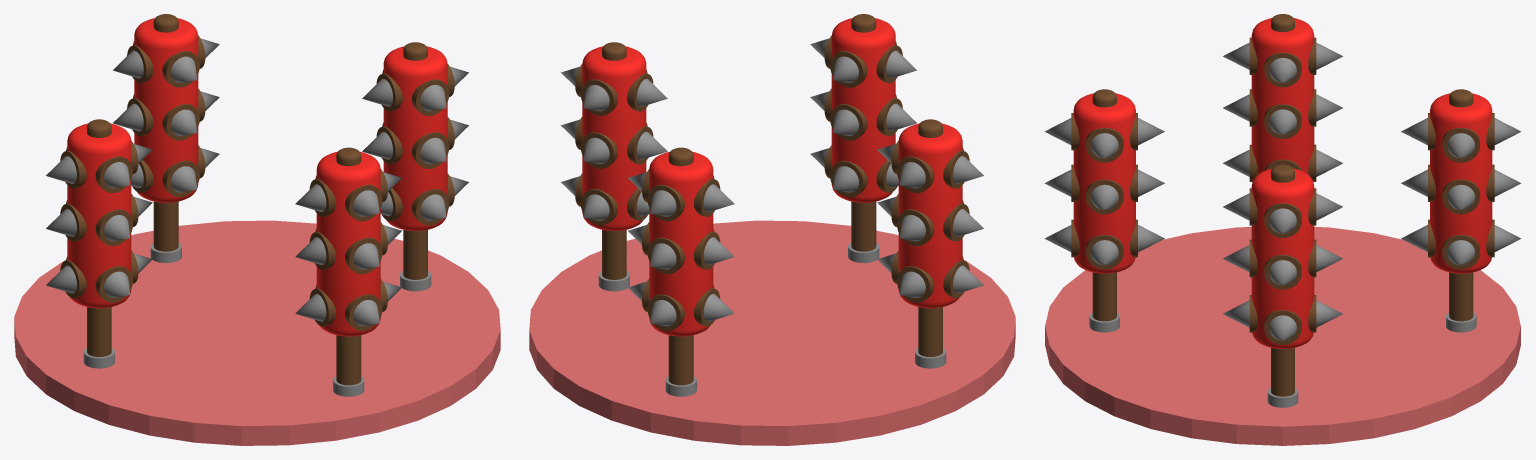
File: donenengel.fbx
3 renders of one model, left to right at view 1: azimuth 30°, elevation 25°; view 2: azimuth 150°, elevation 25°; view 3: azimuth 270°, elevation 25°, orthographic. The views are drawn at different scales.
Parts seen in each view (by area): view 1: Circle, Cylinder.001, Cylinder.003; view 2: Circle, Cylinder.001, Cylinder.003; view 3: Circle, Cylinder.001, Cylinder.003.
Boxes of the visible parts, left/top/right/bottom form: Circle: left=14, top=220, right=500, bottom=445; Cylinder.001: left=113, top=14, right=401, bottom=396; Cylinder.003: left=46, top=42, right=468, bottom=368; Circle: left=529, top=220, right=1015, bottom=445; Cylinder.001: left=628, top=14, right=916, bottom=396; Cylinder.003: left=561, top=42, right=983, bottom=368; Circle: left=1045, top=227, right=1520, bottom=445; Cylinder.001: left=1044, top=89, right=1521, bottom=332; Cylinder.003: left=1223, top=14, right=1342, bottom=407.
Bounding box in the file's own units: 201 × 117 × 201.
